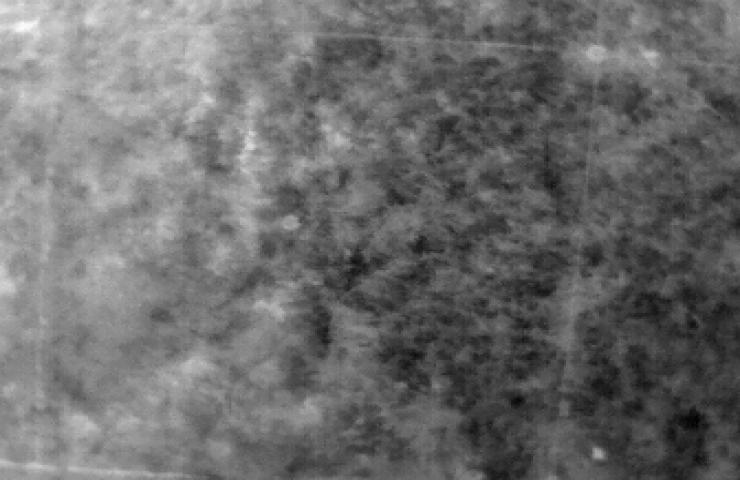landmines: (279, 212, 304, 234)
